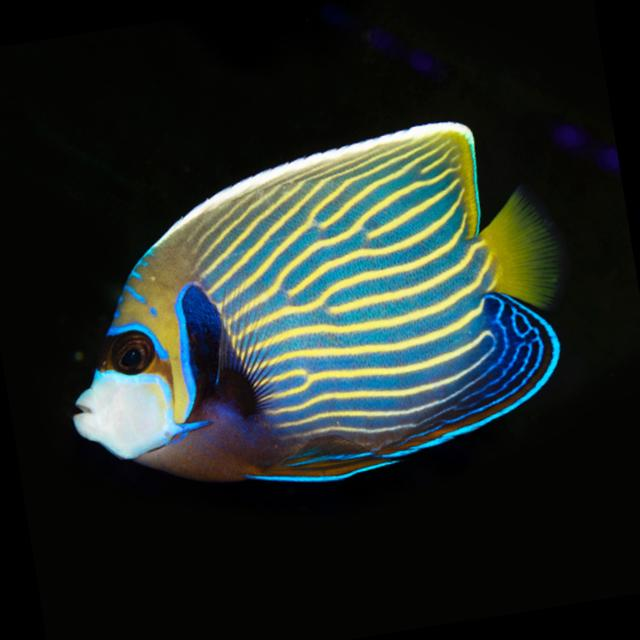AngelFish: (29, 105, 582, 522)
